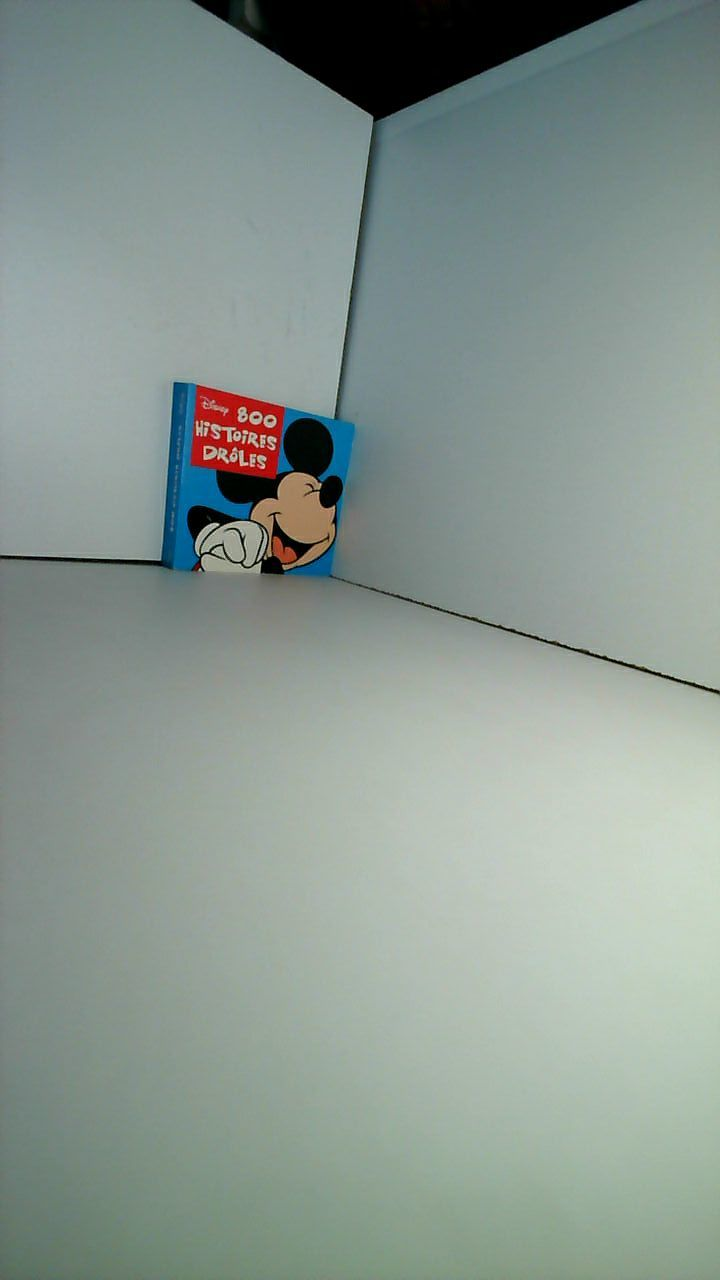book: (151, 367, 368, 593)
